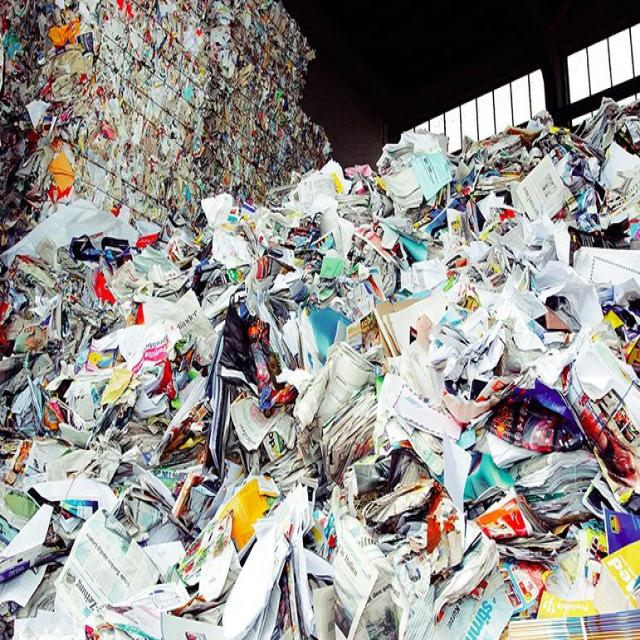Paper -Biodegradable-: (0, 105, 640, 640)
